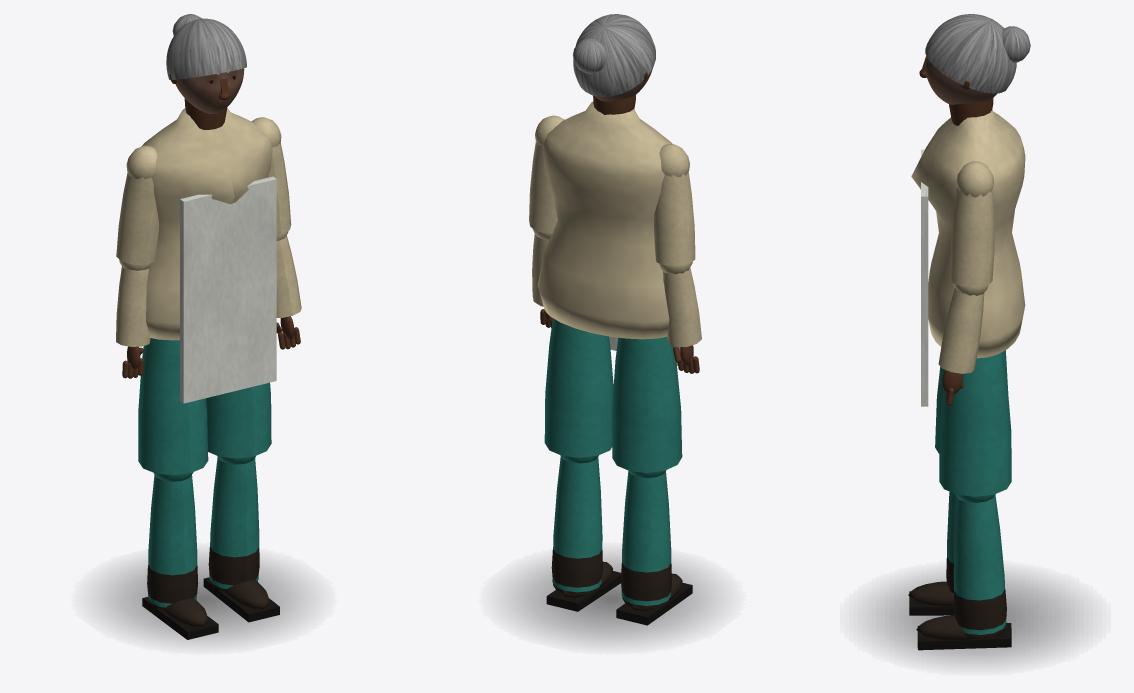
Rendered from npc_nan.glb.
3 views of the same model, side by side, from view 1: azimuth 30°, elevation 25°; view 2: azimuth 150°, elevation 25°; view 3: azimuth 270°, elevation 25° (orthographic). The views are drawn at different scales.
Parts seen in each view (by area): view 1: chest, object 11, shinL, shinR, legL, head, legR, armL, foreL, foreR, armR; view 2: chest, object 11, legL, legR, shinR, shinL, head, armL, foreL, armR, foreR; view 3: chest, object 11, shinR, legR, head, armR, foreR, shinL, legL.
Boxes of the visible parts, bbox=[...] form: chest: bbox=[141, 98, 276, 403]; object 11: bbox=[97, 554, 309, 643]; shinL: bbox=[142, 472, 218, 639]; shinR: bbox=[203, 456, 279, 622]; legL: bbox=[138, 338, 208, 475]; head: bbox=[166, 14, 246, 113]; legR: bbox=[206, 382, 271, 458]; armL: bbox=[116, 145, 159, 264]; foreL: bbox=[116, 259, 151, 378]; foreR: bbox=[276, 231, 301, 349]; armR: bbox=[251, 117, 291, 235]; chest: bbox=[537, 95, 680, 365]; object 11: bbox=[506, 553, 718, 643]; legL: bbox=[612, 337, 682, 472]; legR: bbox=[544, 318, 613, 457]; shinR: bbox=[546, 455, 621, 611]; shinL: bbox=[616, 470, 692, 625]; head: bbox=[573, 14, 655, 101]; armL: bbox=[653, 144, 695, 265]; foreL: bbox=[659, 261, 701, 373]; armR: bbox=[529, 115, 564, 233]; foreR: bbox=[532, 228, 552, 327]; chest: bbox=[911, 98, 1025, 406]; object 11: bbox=[867, 574, 1083, 663]; shinR: bbox=[916, 494, 1011, 650]; legR: bbox=[939, 352, 1011, 496]; head: bbox=[919, 14, 1030, 104]; armR: bbox=[950, 161, 994, 287]; foreR: bbox=[938, 283, 988, 405]; shinL: bbox=[908, 492, 956, 615]; legL: bbox=[935, 350, 1008, 453].
Size of the model in its own units: 0.77 by 1.79 by 0.77.
6 materials, 5 textured.
